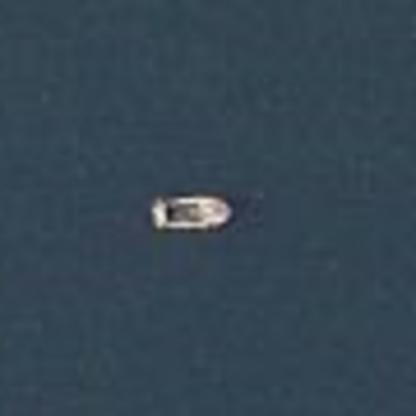ship: (139, 189, 242, 238)
